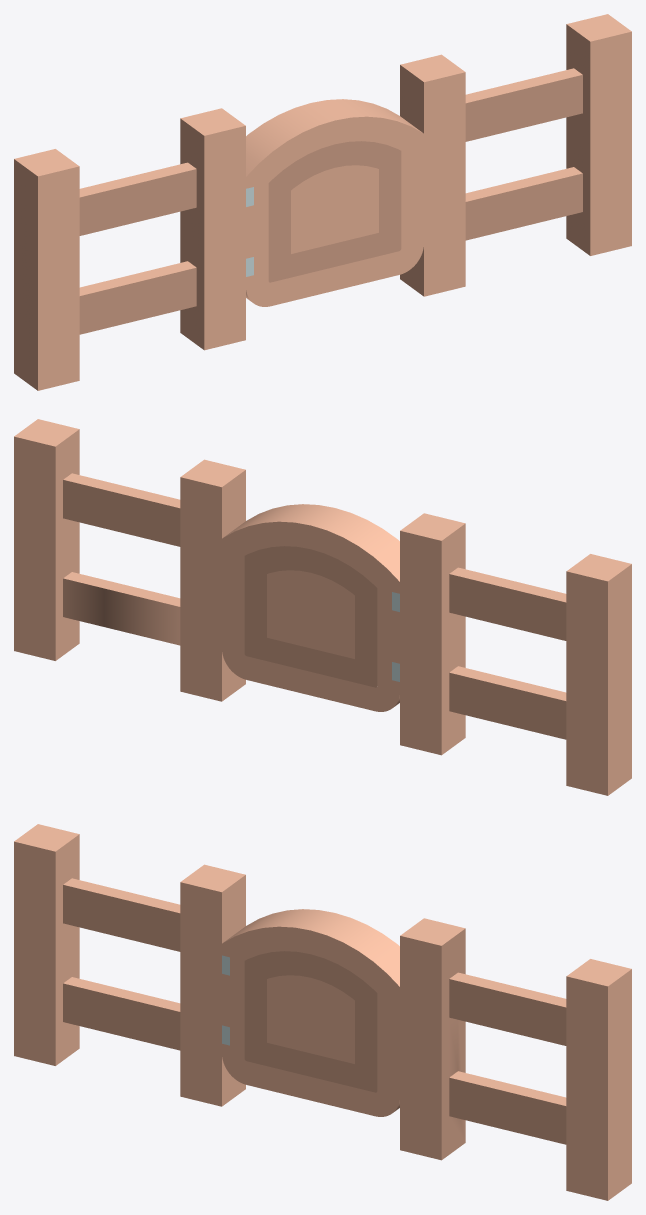
Rendered from gate.glb.
3 views of the same model, one above another, from view 1: azimuth 30°, elevation 25°; view 2: azimuth 150°, elevation 25°; view 3: azimuth 330°, elevation 25° (orthographic).
Visible parts, largest first — view 1: fence_gate, gate; view 2: fence_gate, gate; view 3: fence_gate, gate.
Boxes of the visible parts, x1,y1,x2,y2 form: fence_gate: [14, 14, 631, 390]; gate: [246, 99, 423, 306]; fence_gate: [14, 419, 631, 795]; gate: [222, 504, 399, 711]; fence_gate: [14, 824, 631, 1200]; gate: [222, 909, 399, 1116].
Bounding box in the file's own units: 1 × 0.345 × 0.07.
